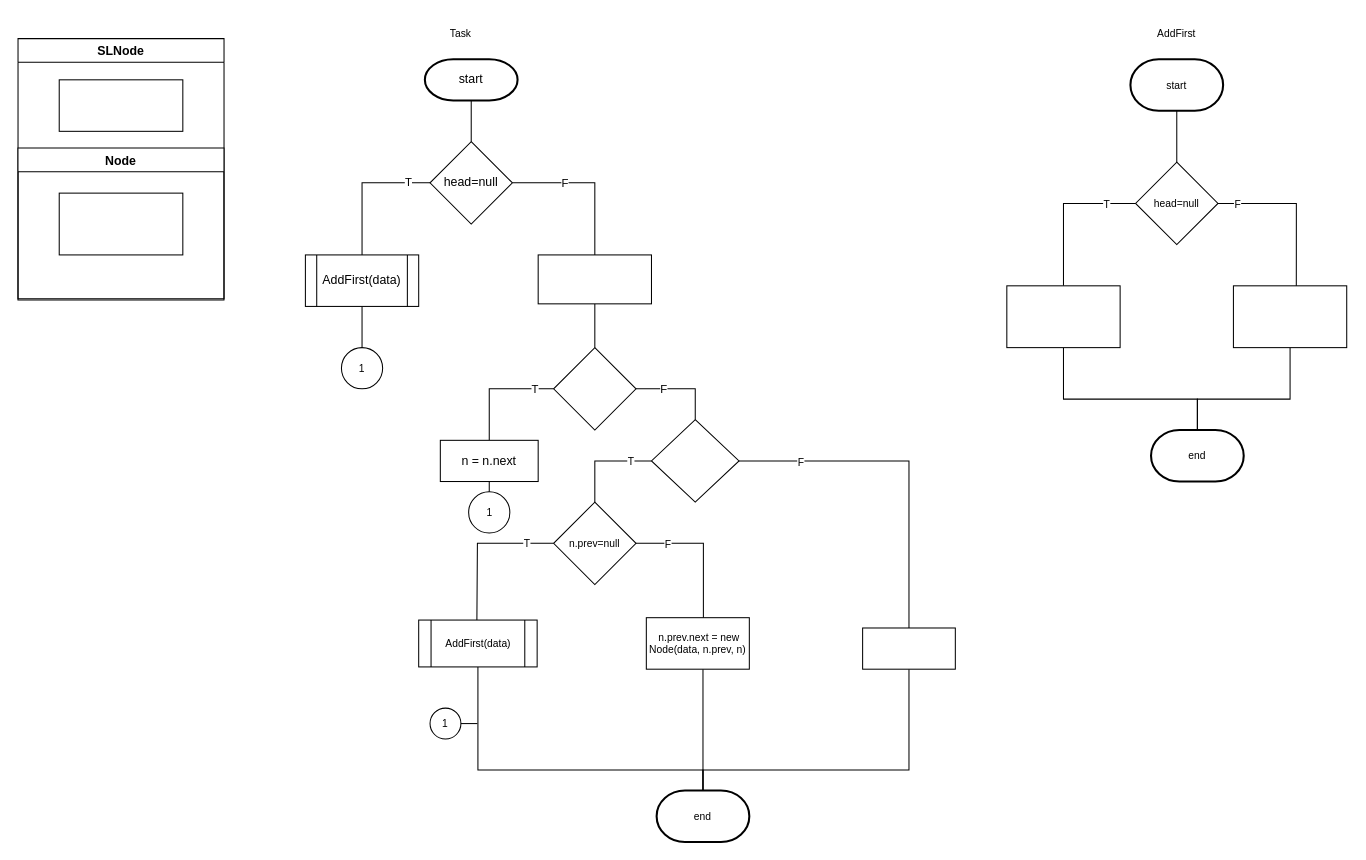
Image size: 1366x860. Some labels were removed from this diagram. The shapes that lost their labels are listed below. From the top down, each one's centre as x and y in pixels, then its label:
At point (120, 105): "head є Node".
At point (120, 223): "next є Node data є N".
At point (594, 279): "n = head".
At point (1063, 316): "head = new Node(data, null, null)".
At point (1289, 316): "head = new Node(data, null, head) head.next.prev=head".
At point (594, 388): "n.next != null".
At point (694, 460): "n.data mod 2 = 0".
At point (908, 648): "n.next = new Node(data, n, null)".
